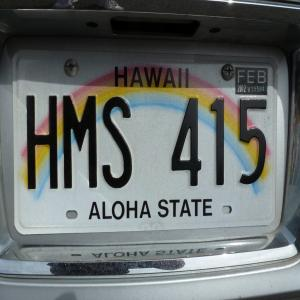Vehicle-registration-plate: (12, 49, 279, 240)
